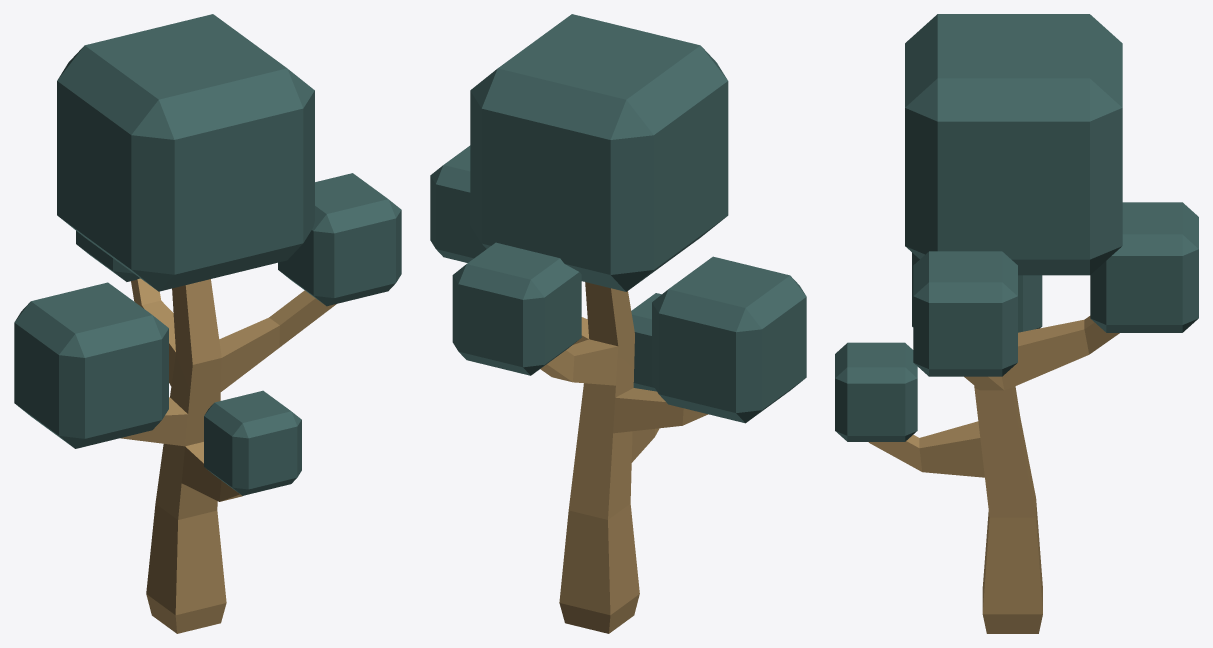
File: naturePack_151.obj
The picture shows the model from 3 angles, left to right: view 1: azimuth 30°, elevation 25°; view 2: azimuth 150°, elevation 25°; view 3: azimuth 270°, elevation 25°; orthographic projection. The views are drawn at different scales.
Parts seen in each view (by area): view 1: Mesh1_Group1_Model.067; view 2: Mesh1_Group1_Model.067; view 3: Mesh1_Group1_Model.067.
Part boxes in pixels (left/top/right/bottom): Mesh1_Group1_Model.067: left=14, top=14, right=401, bottom=633; Mesh1_Group1_Model.067: left=430, top=14, right=806, bottom=633; Mesh1_Group1_Model.067: left=835, top=14, right=1198, bottom=633.
Bounding box in the file's own units: 3.39 × 5.33 × 3.05.
